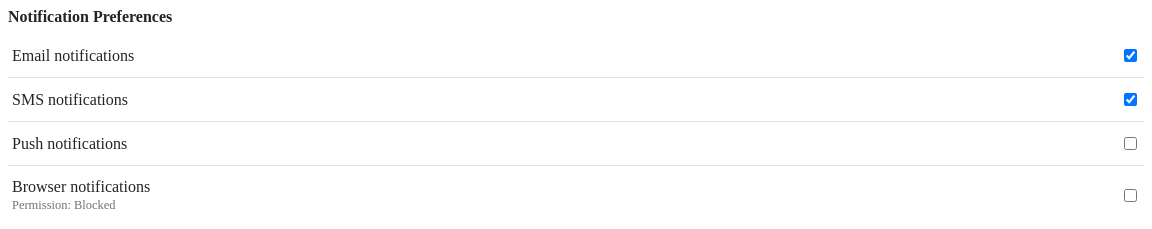
NotificationPreferences browser toggle › re-requests permission (not silent-off) when the pref is true but permission was revoked
Check: the checkbox labelled "SMS notifications" is checked, box [1124, 93, 1137, 106]
Click the checkbox labelled "Browser notifications Permission: Blocked". click: x=1130, y=196
box: [1124, 189, 1137, 202]
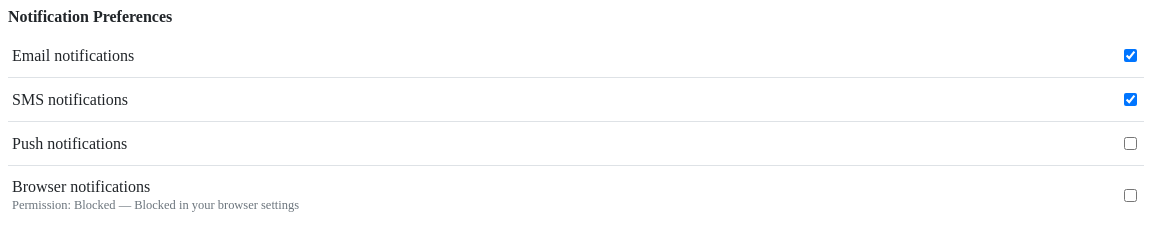
Check: the text "Blocked in your browser settings" is shown, box [116, 198, 299, 212]
